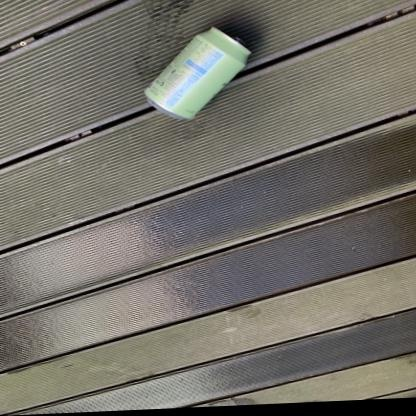trash: (145, 27, 250, 118)
